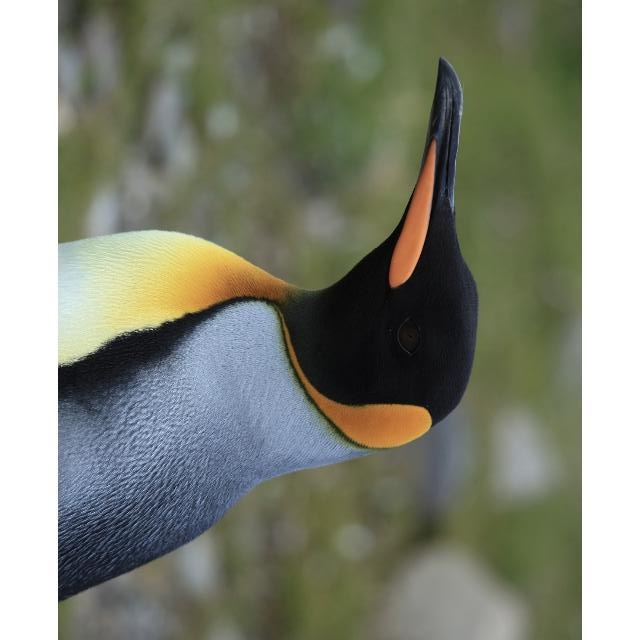penguin: (59, 56, 479, 602)
